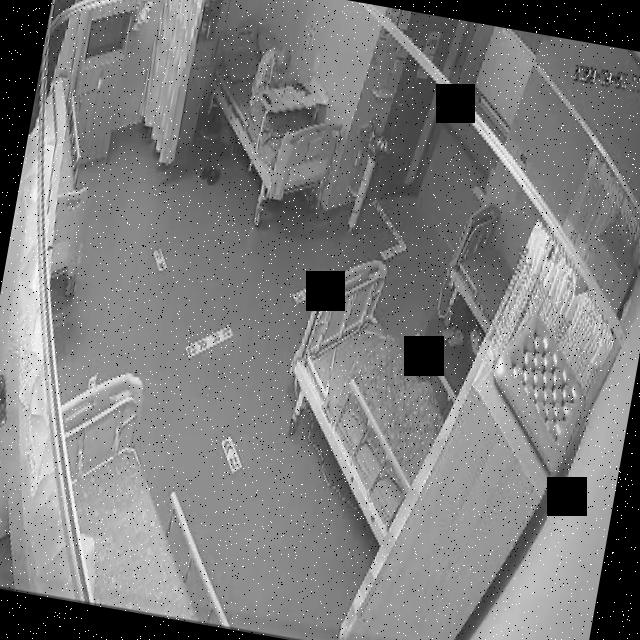bed: (26, 366, 268, 628), (266, 251, 468, 549), (185, 19, 358, 210), (439, 198, 524, 338)
patient: (246, 34, 298, 114)
sit: (247, 36, 295, 116)
